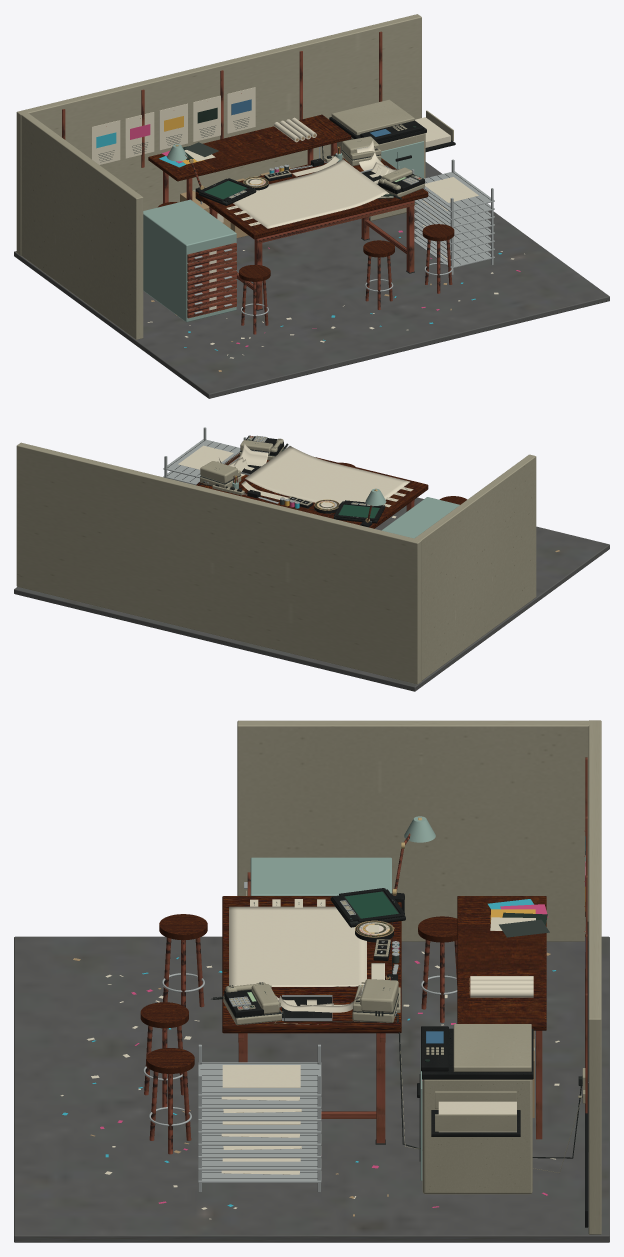
The model's file is desk_assembly.glb.
The picture shows the model from 3 angles, top to bottom: view 1: azimuth 30°, elevation 25°; view 2: azimuth 150°, elevation 25°; view 3: azimuth 270°, elevation 25°; orthographic projection. The views are drawn at different scales.
Parts seen in each view (by area): view 1: studio_environment__ConcreteFloor, studio_environment__RearWall, studio_environment__LeftWall, storage_furniture__FlatFileCase, workpaper_edit__PaperSurface, storage_furniture__BackBench, desk__Top, production_press__ScannerLid, storage_furniture__DryingTray7, studio_tools__PinboardProof4, production_press__FrontDoor, studio_tools__PinboardProof2 (+14 smaller); view 2: studio_environment__RearWall, studio_environment__LeftWall, studio_environment__ConcreteFloor, workpaper_edit__PaperSurface, desk__Top, storage_furniture__FlatFileCase, storage_furniture__DryingTray7, storage_furniture__DryingPrint7, receipt_printer__RollCover, fax_paper__PaperSurface, crt_terminal__ScreenSurface; view 3: studio_environment__ConcreteFloor, studio_environment__LeftWall, workpaper_edit__PaperSurface, production_press__MachineBody, storage_furniture__BackBench, studio_environment__RearWall, desk__Top, storage_furniture__FlatFileCase, production_press__ScannerLid, storage_furniture__DryingTray7, storage_furniture__DryingPrint7, production_press__FeedGuide1.72 (+20 smaller).
Part boxes in pixels (left/top/right/bottom): studio_environment__ConcreteFloor: left=14, top=162, right=609, bottom=398; studio_environment__RearWall: left=16, top=14, right=421, bottom=255; studio_environment__LeftWall: left=21, top=112, right=143, bottom=339; storage_furniture__FlatFileCase: left=143, top=199, right=236, bottom=322; workpaper_edit__PaperSurface: left=233, top=159, right=387, bottom=228; storage_furniture__BackBench: left=148, top=114, right=351, bottom=181; desk__Top: left=195, top=158, right=428, bottom=239; production_press__ScannerLid: left=331, top=99, right=414, bottom=135; storage_furniture__DryingTray7: left=423, top=171, right=494, bottom=212; studio_tools__PinboardProof4: left=227, top=87, right=255, bottom=133; production_press__FrontDoor: left=381, top=141, right=423, bottom=203; studio_tools__PinboardProof2: left=159, top=103, right=187, bottom=150; studio_environment__RearWall: left=16, top=442, right=421, bottom=684; studio_environment__LeftWall: left=414, top=454, right=536, bottom=680; studio_environment__ConcreteFloor: left=14, top=497, right=609, bottom=691; workpaper_edit__PaperSurface: left=245, top=446, right=409, bottom=503; desk__Top: left=196, top=453, right=428, bottom=528; storage_furniture__FlatFileCase: left=381, top=497, right=459, bottom=538; storage_furniture__DryingTray7: left=163, top=439, right=240, bottom=478; storage_furniture__DryingPrint7: left=178, top=445, right=233, bottom=469; receipt_printer__RollCover: left=200, top=461, right=237, bottom=483; fax_paper__PaperSurface: left=233, top=443, right=268, bottom=471; crt_terminal__ScreenSurface: left=338, top=504, right=379, bottom=518; studio_environment__ConcreteFloor: left=14, top=936, right=609, bottom=1242; studio_environment__LeftWall: left=237, top=720, right=590, bottom=941; workpaper_edit__PaperSurface: left=229, top=906, right=366, bottom=986; production_press__MachineBody: left=422, top=1079, right=532, bottom=1194; storage_furniture__BackBench: left=457, top=896, right=546, bottom=1030; studio_environment__RearWall: left=588, top=720, right=601, bottom=1234; desk__Top: left=222, top=896, right=401, bottom=1033; storage_furniture__FlatFileCase: left=250, top=857, right=391, bottom=895; production_press__ScannerLid: left=453, top=1024, right=531, bottom=1071; storage_furniture__DryingTray7: left=198, top=1062, right=321, bottom=1096; storage_furniture__DryingPrint7: left=222, top=1065, right=300, bottom=1087; production_press__FeedGuide1.72: left=435, top=1114, right=516, bottom=1131.
Bounding box in the file's own units: 3.8 × 1.33 × 3.2.
35 materials, 20 textured.
